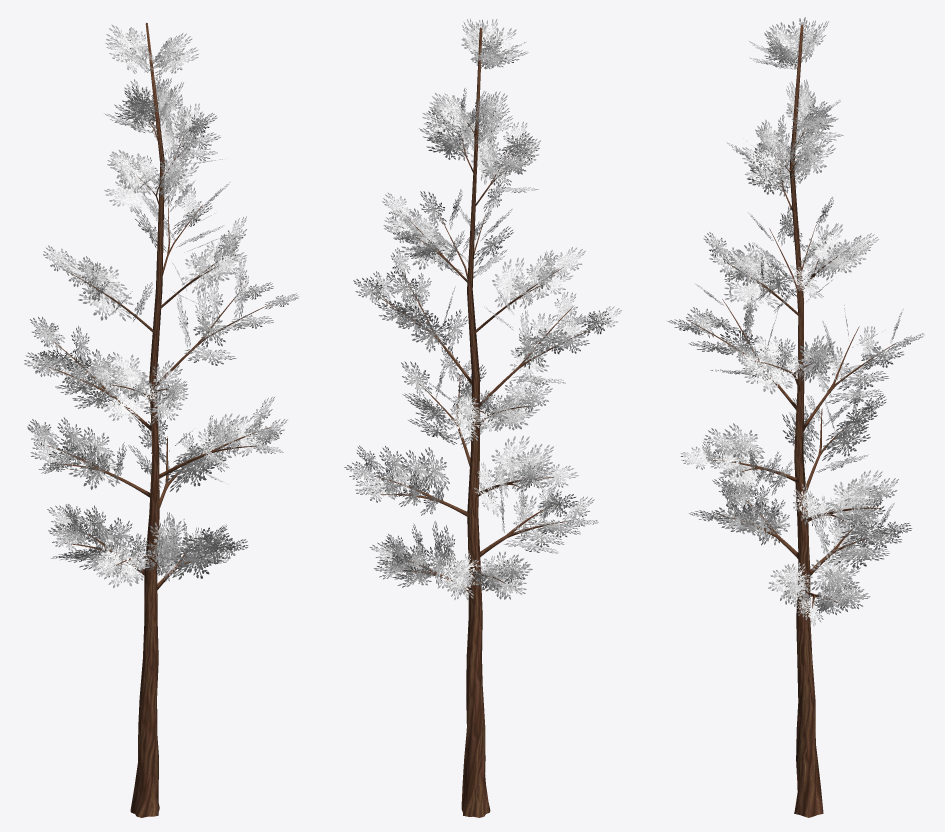
File: Arbol_5.fbx
3 views of the same model, side by side, from view 1: azimuth 30°, elevation 25°; view 2: azimuth 150°, elevation 25°; view 3: azimuth 270°, elevation 25° (orthographic).
Visible parts, largest first — view 1: Tree_1, Tree_0; view 2: Tree_1, Tree_0; view 3: Tree_1, Tree_0.
Boxes of the visible parts, x1,y1,x2,y2 form: Tree_1: [24, 24, 298, 588]; Tree_0: [38, 22, 272, 817]; Tree_1: [344, 18, 621, 600]; Tree_0: [373, 28, 595, 817]; Tree_1: [667, 17, 924, 626]; Tree_0: [686, 24, 897, 817].
Size of the model in its own units: 529 by 1678 by 525.
Materials: 2 (2 with a texture image).
